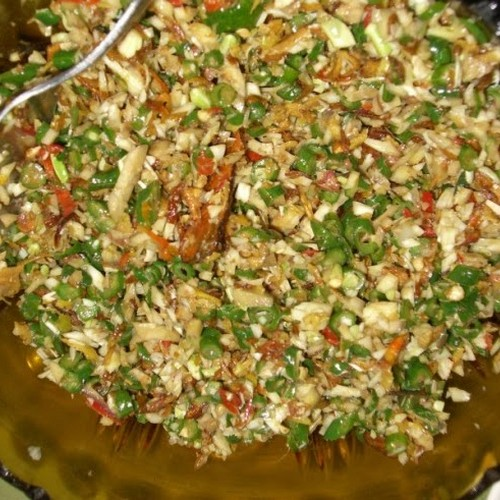lawar: (111, 55, 500, 416)
